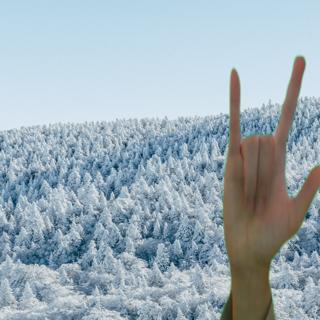ILY: (216, 52, 320, 277)
